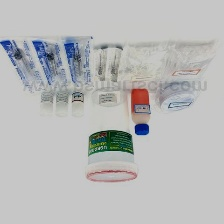insecticide: (127, 84, 154, 138)
plastic_box: (80, 84, 141, 185)
